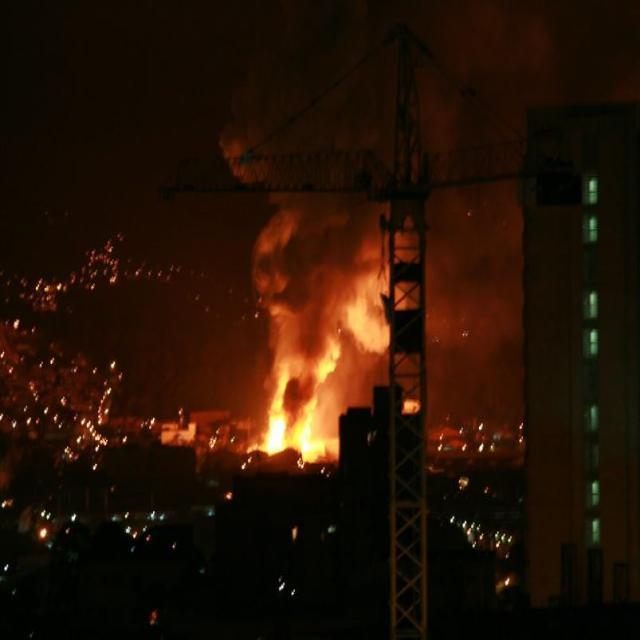Fire: (296, 405, 317, 463), (266, 397, 286, 455), (316, 435, 340, 462), (247, 431, 264, 454), (286, 424, 300, 448)
Smoke: (210, 0, 393, 145), (250, 208, 390, 374), (423, 0, 532, 145), (427, 202, 525, 352), (280, 374, 324, 409)
